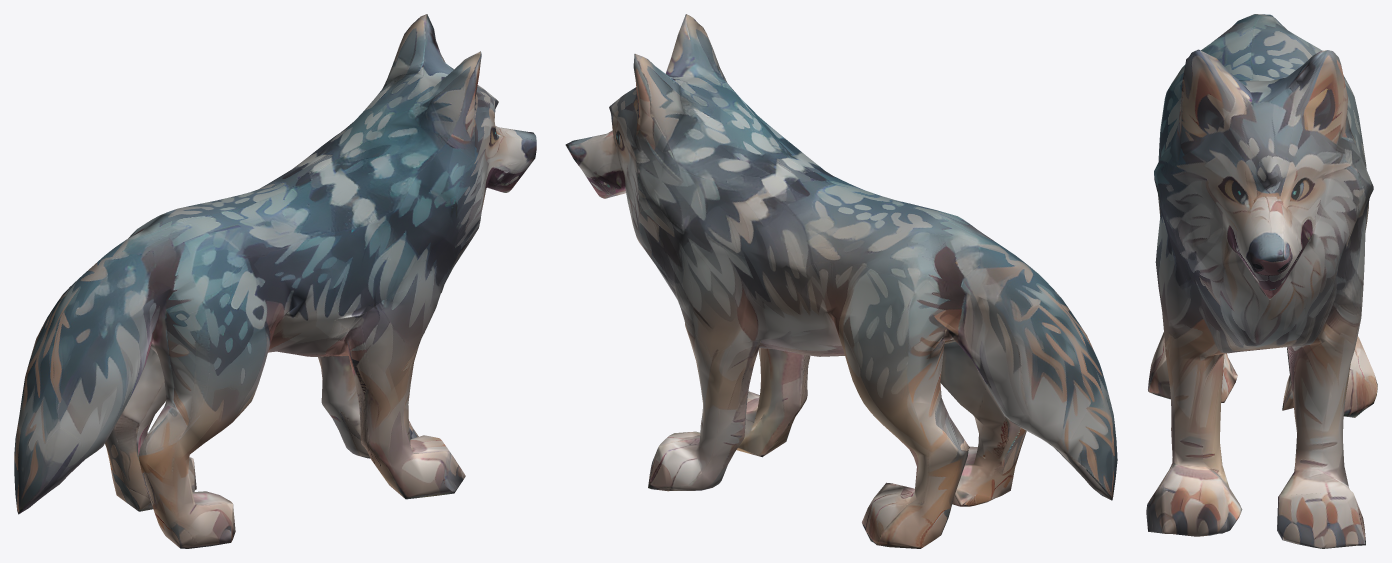
File: Wolf_Model.fbx
3 views of the same model, side by side, from view 1: azimuth 30°, elevation 25°; view 2: azimuth 150°, elevation 25°; view 3: azimuth 270°, elevation 25° (orthographic). The views are drawn at different scales.
Parts seen in each view (by area): view 1: Mesh_0; view 2: Mesh_0; view 3: Mesh_0.
Part boxes in pixels (x1,y1,x2,y2): Mesh_0: (14, 14, 536, 548); Mesh_0: (565, 14, 1117, 548); Mesh_0: (1146, 14, 1377, 548).
Size of the model in its own units: 120 by 90.61 by 36.73.
Materials: 1 (1 with a texture image).
